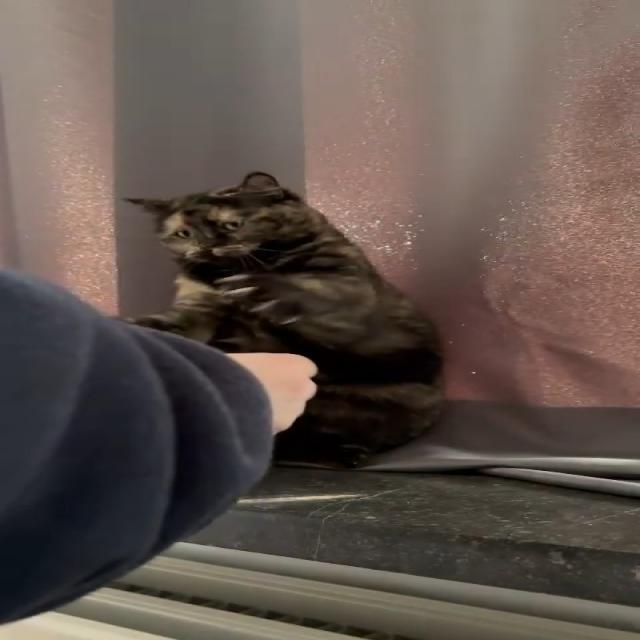authorized: (121, 170, 447, 470)
